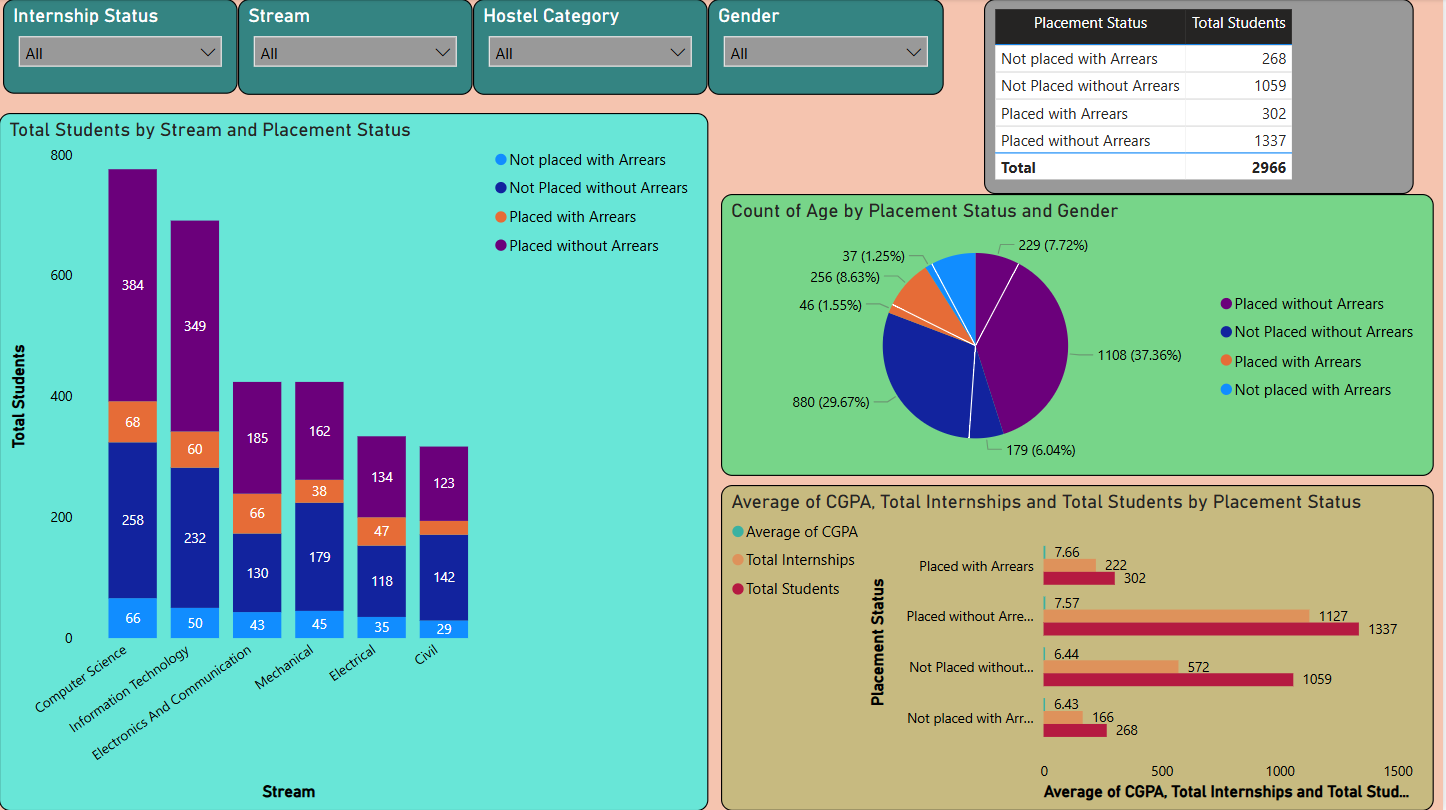

This screenshot's page, from the dashboard's own definition file:
{"tool":"powerbi","page":{"name":"Summary by Analysis","canvas":[1280,720],"ordinal":8},"visuals":[{"type":"columnChart","fields":{"Category":["collegePlace.Stream"],"Y":["CountNonNull(collegePlace.Age)"],"Series":["collegePlace.placement status"]},"box":[0,101.2,629.3,618.6],"z":0},{"type":"pieChart","fields":{"Category":["collegePlace.placement status"],"Y":["CountNonNull(collegePlace.Age)"],"Series":["collegePlace.Gender"]},"box":[640,173.1,632.2,250],"z":1000},{"type":"clusteredBarChart","fields":{"Category":["collegePlace.placement status"],"Y":["Avg(collegePlace.CGPA)","Sum(collegePlace.Internships)","CountNonNull(collegePlace. placement1)"]},"box":[640,430.9,632.2,288.9],"z":2000},{"type":"tableEx","fields":{"Values":["collegePlace.placement status","CountNonNull(collegePlace.placement status)"]},"box":[873.4,0,381.3,173.1],"z":3000},{"type":"slicer","title":"Stream","fields":{"Values":["collegePlace.Stream"]},"box":[212,0,208.1,84.6],"z":4000},{"type":"slicer","title":"Hostel Category","fields":{"Values":["collegePlace.Hostel Category"]},"box":[420.2,0,208.1,84.6],"z":5000},{"type":"slicer","title":"Internship Status","fields":{"Values":["collegePlace.Internship Status"]},"box":[3.5,0,208.4,84.2],"z":6000},{"type":"slicer","title":"Gender","fields":{"Values":["collegePlace.Gender"]},"box":[628.3,0,209.1,84.6],"z":7000}]}

Visuals, with their boxes in screenshot pixels (x1, y1, x2, y2), scaled from the page's 1280x720 canvas onto the 1446x810 screenshot:
columnChart - collegePlace.Stream x CountNonNull(collegePlace.Age): <region>0, 114, 711, 809</region>
pieChart - collegePlace.placement status x CountNonNull(collegePlace.Age): <region>723, 195, 1437, 476</region>
clusteredBarChart - collegePlace.placement status x Avg(collegePlace.CGPA): <region>723, 485, 1437, 809</region>
tableEx - collegePlace.placement status x CountNonNull(collegePlace.placement status): <region>987, 0, 1417, 195</region>
"Stream" slicer: <region>239, 0, 475, 95</region>
"Hostel Category" slicer: <region>475, 0, 710, 95</region>
"Internship Status" slicer: <region>4, 0, 239, 95</region>
"Gender" slicer: <region>710, 0, 946, 95</region>
